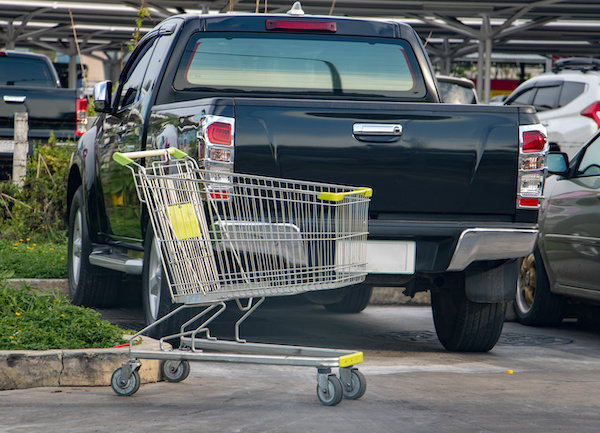Car: (61, 23, 539, 348)
shopping_cart: (100, 147, 377, 407)
